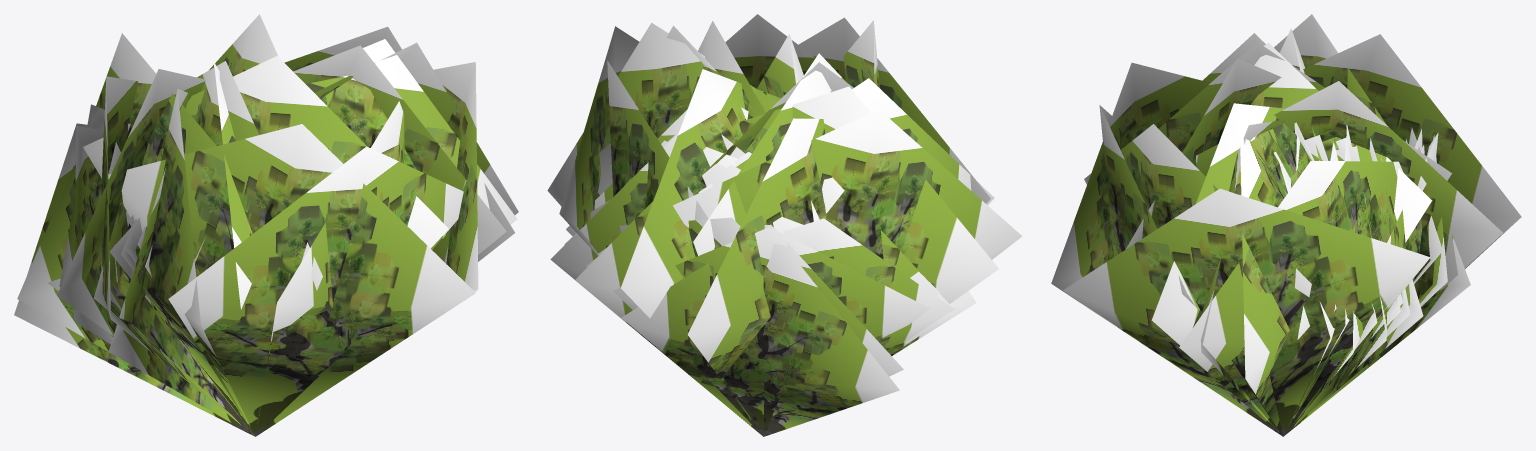
The model's file is bush.glb.
The picture shows the model from 3 angles, left to right: view 1: azimuth 30°, elevation 25°; view 2: azimuth 150°, elevation 25°; view 3: azimuth 270°, elevation 25°; orthographic projection. The views are drawn at different scales.
Visible parts, largest first — view 1: bush; view 2: bush; view 3: bush.
Boxes of the visible parts, <box> form: bush: <box>14,14,518,436</box>; bush: <box>547,14,1022,436</box>; bush: <box>1051,14,1521,436</box>.
Size of the model in its own units: 6.08 by 5 by 5.65.
1 material, 1 textured.
